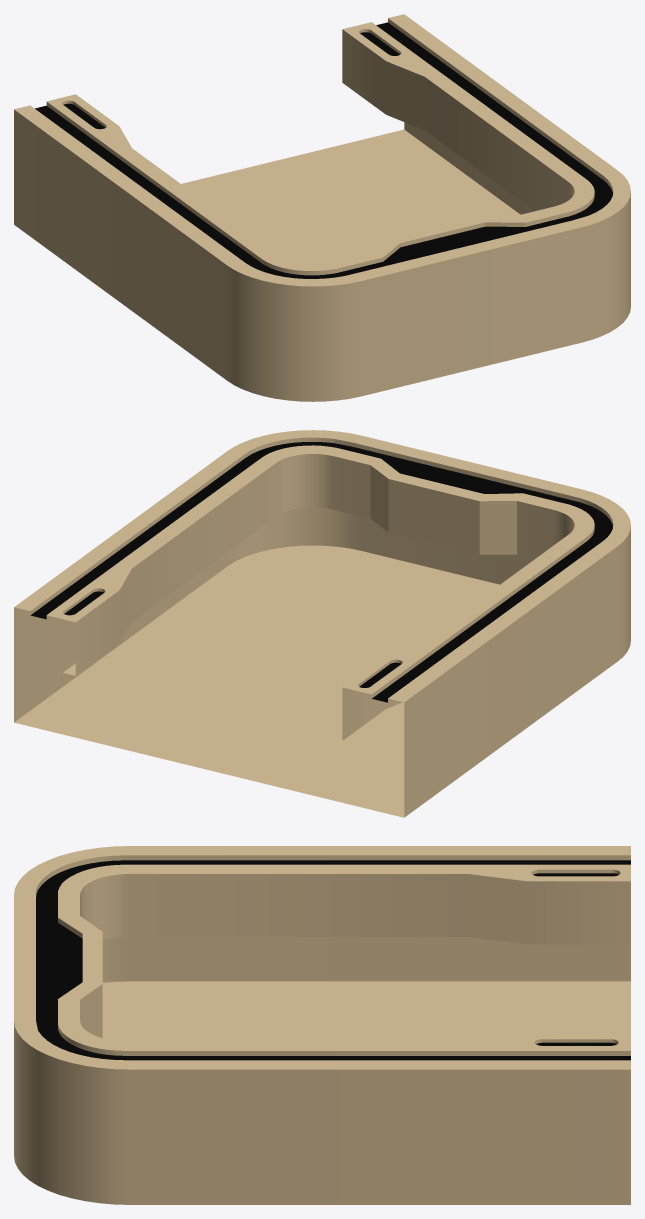
The model's file is arch.obj.
The picture shows the model from 3 angles, top to bottom: view 1: azimuth 30°, elevation 25°; view 2: azimuth 150°, elevation 25°; view 3: azimuth 270°, elevation 25°; orthographic projection. The views are drawn at different scales.
Size of the model in its own units: 2.4 by 0.678 by 2.8.
